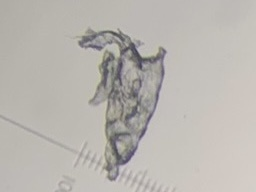microplastic: (74, 26, 170, 183)
